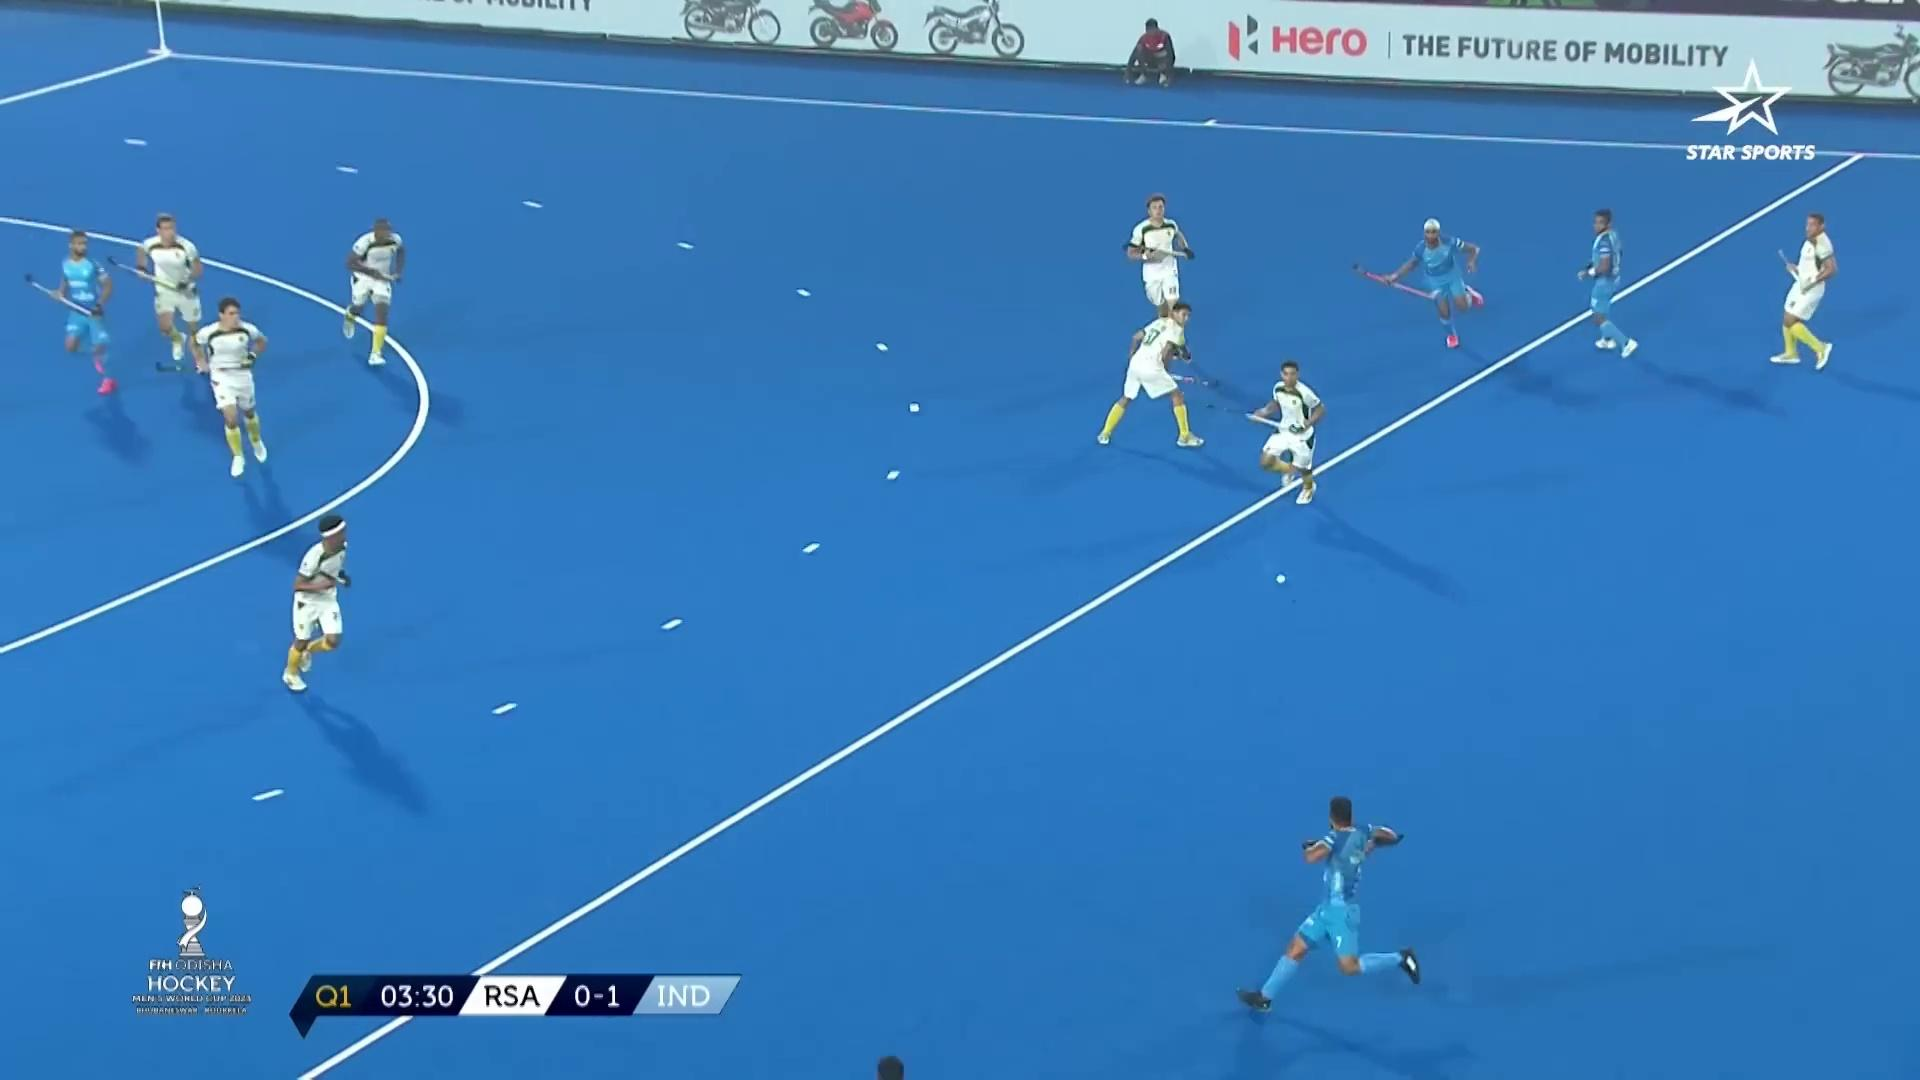ball: (1275, 564, 1309, 604)
